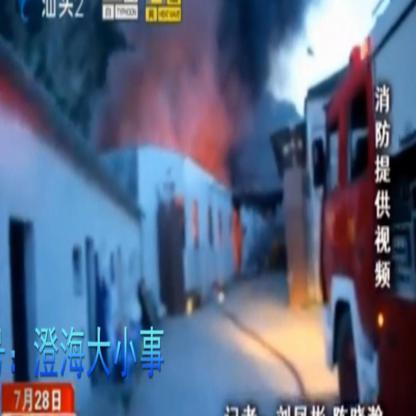smoke: (178, 8, 268, 134), (50, 25, 156, 130)
